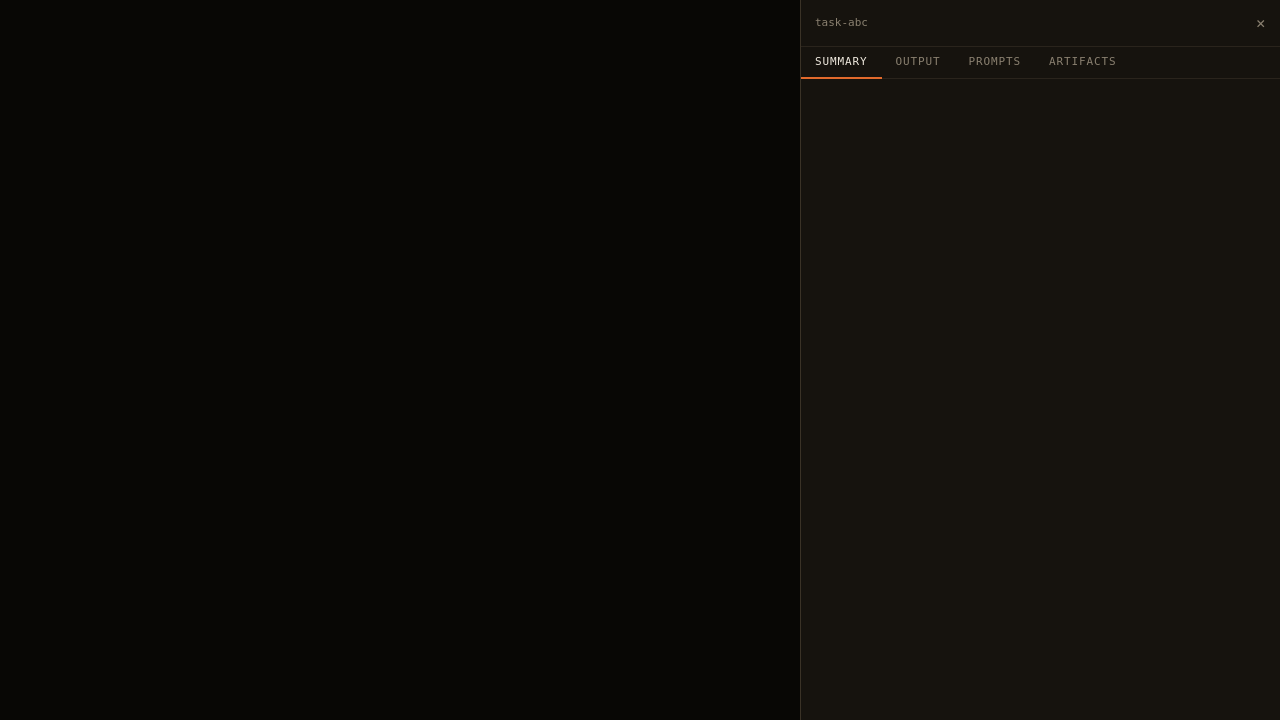
Test: TaskDetailSlideover › appends SSE stream chunks to the Output tab
This screenshot has width=1280, height=720.
Step 1. Click the button "output" → (918, 63), box left=882, top=46, right=954, bottom=79
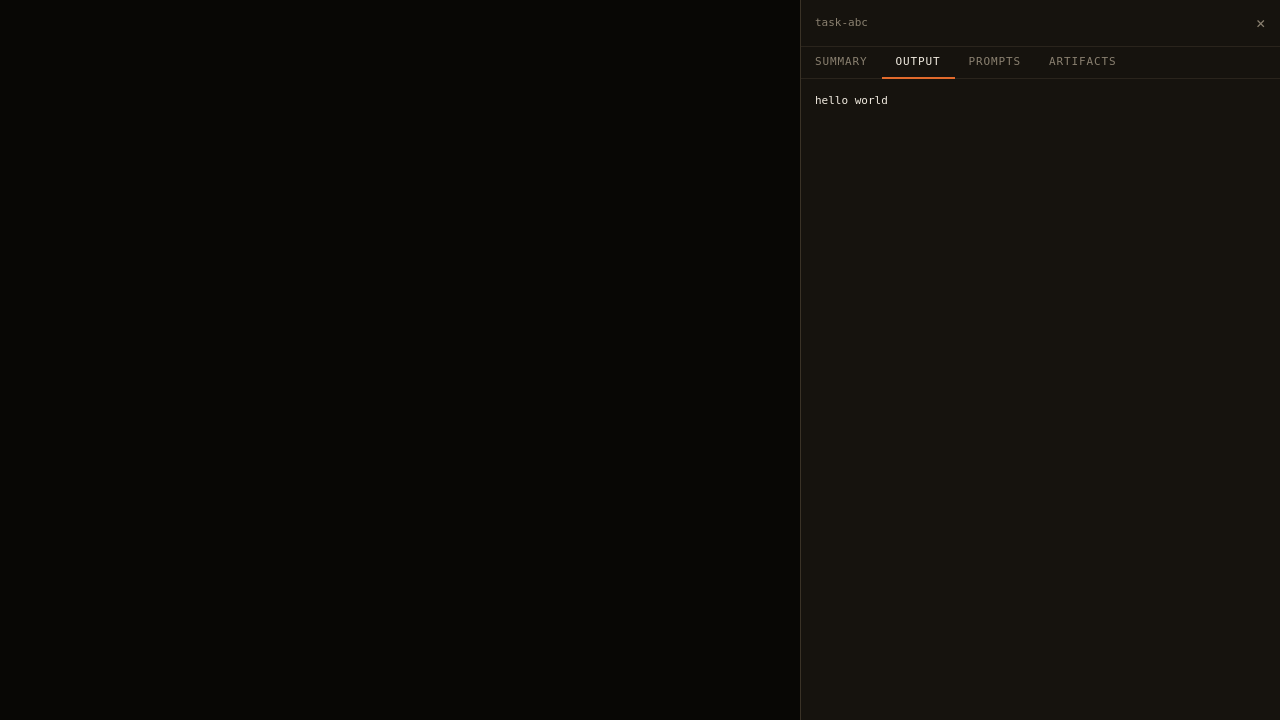
Result: the text "hello world" is shown at left=815, top=94, right=888, bottom=107
